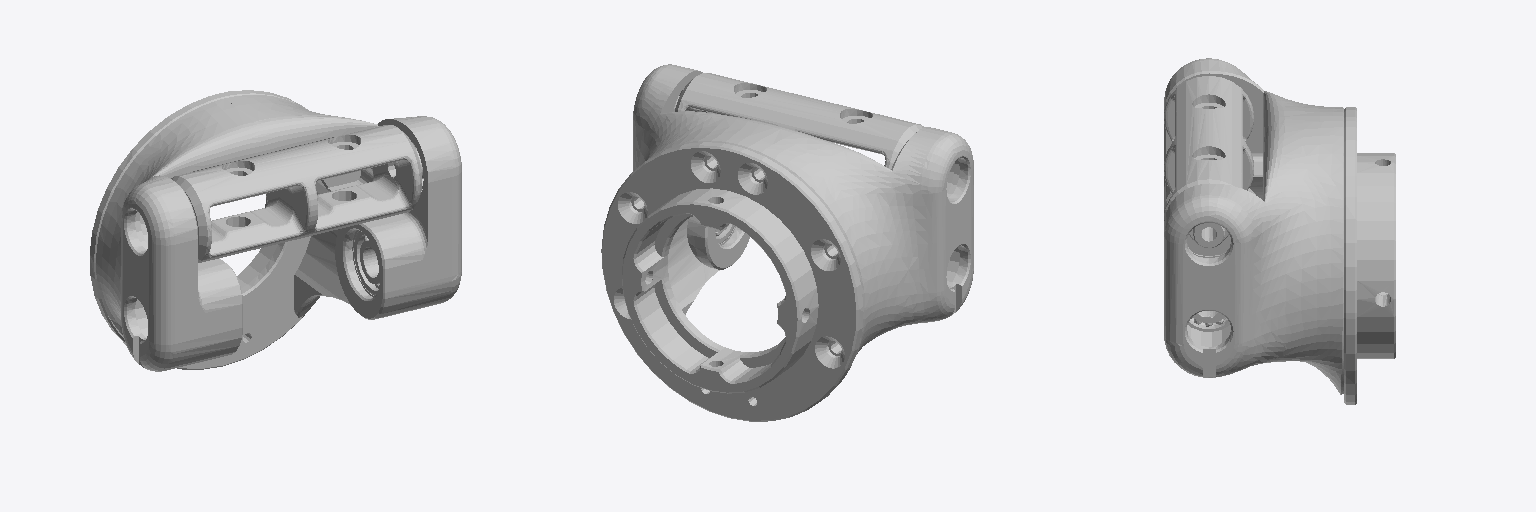
Rendered from left_hand_pitch_link.obj.
The picture shows the model from 3 angles: view 1: azimuth 30°, elevation 25°; view 2: azimuth 150°, elevation 25°; view 3: azimuth 270°, elevation 25°; orthographic projection.
Parts seen in each view (by area): view 1: left_hand_pitch_link; view 2: left_hand_pitch_link; view 3: left_hand_pitch_link.
Boxes of the visible parts, x1,y1,x2,y2 form: left_hand_pitch_link: [90, 90, 461, 371]; left_hand_pitch_link: [601, 64, 973, 421]; left_hand_pitch_link: [1164, 58, 1395, 404].
Bounding box in the file's own units: 0.0556 × 0.0461 × 0.036.